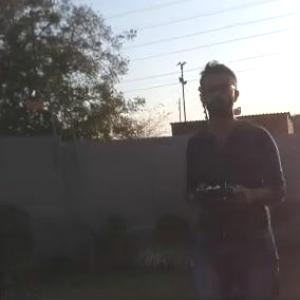follow: (174, 53, 292, 299)
